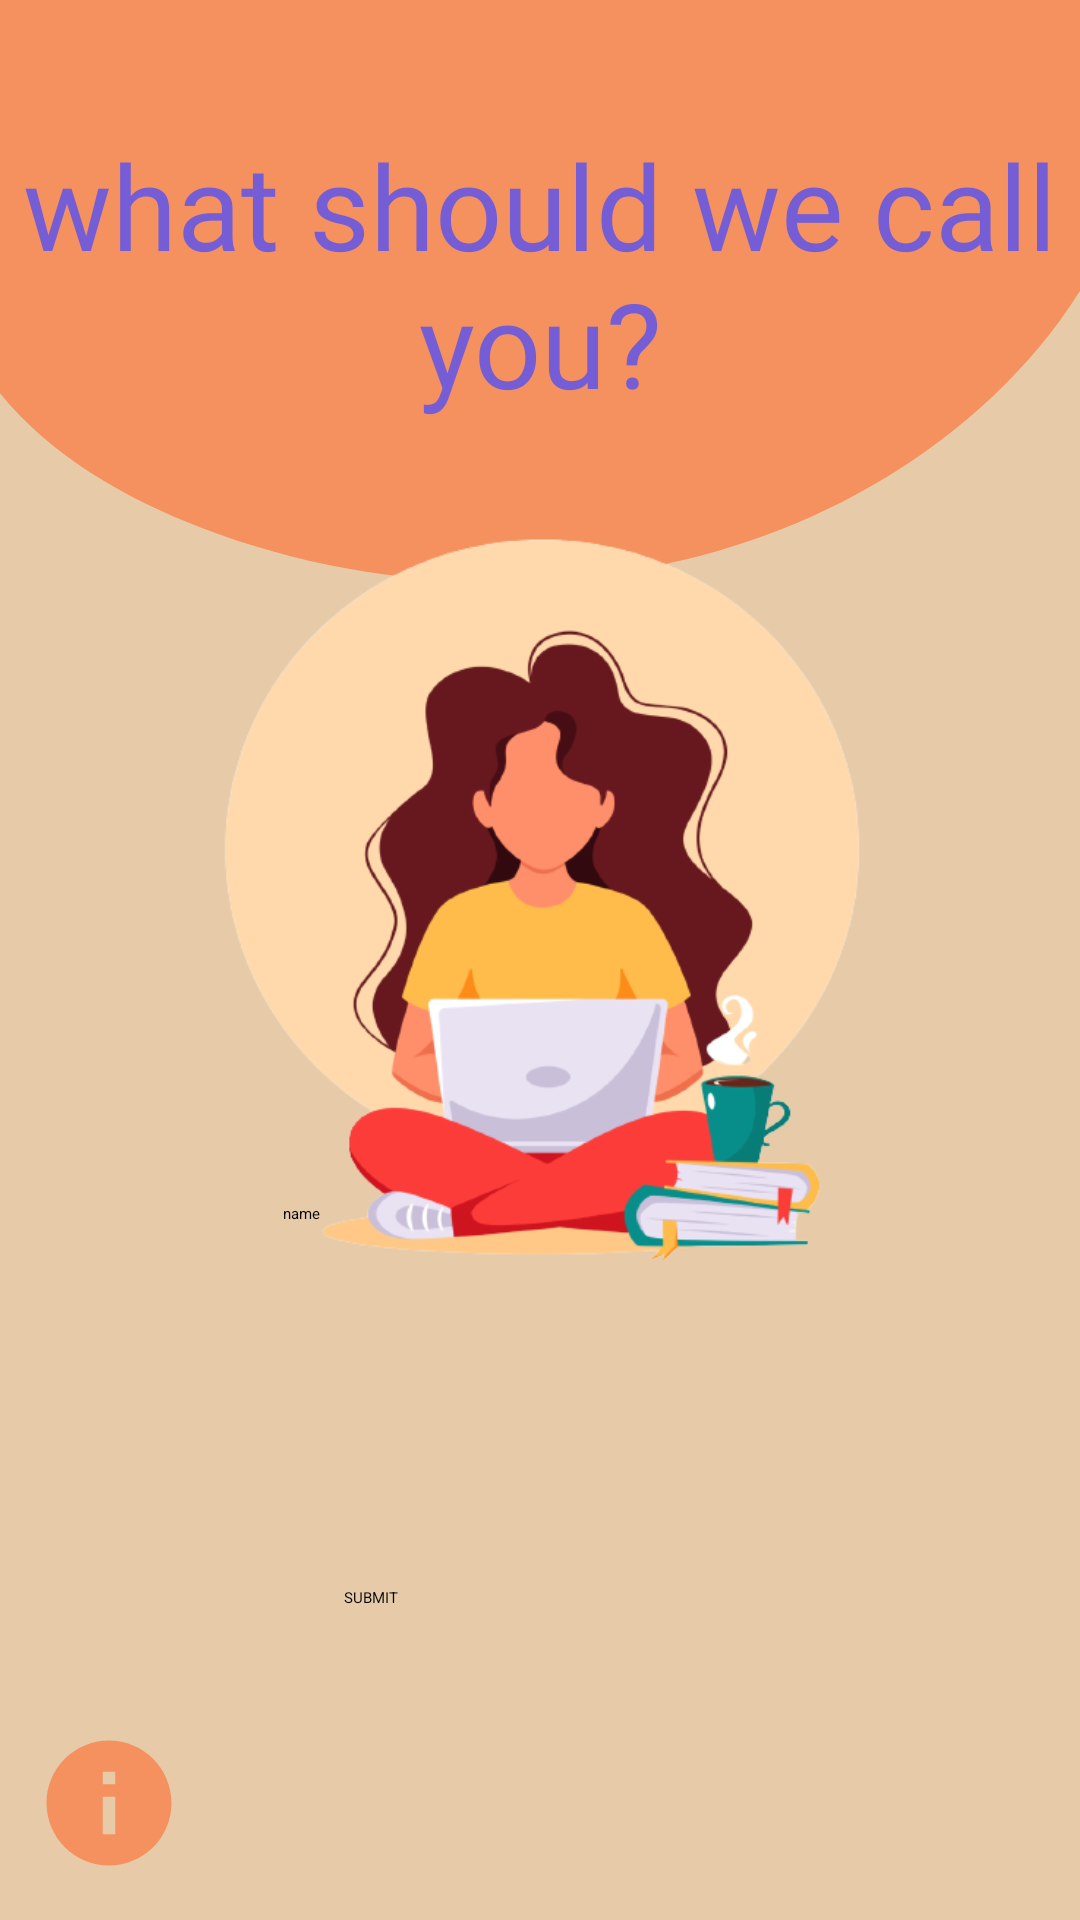

Screen size 1080px×1920px. Icon name, then its center in pixels as [x,y]:
info: [109,1803]
